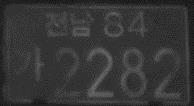2: (152, 46, 182, 100), (85, 46, 115, 98), (53, 46, 81, 98)
4: (126, 10, 148, 39)
8: (119, 46, 147, 98), (103, 10, 124, 38)
가: (13, 46, 45, 82)
전남_O: (44, 10, 95, 37)
